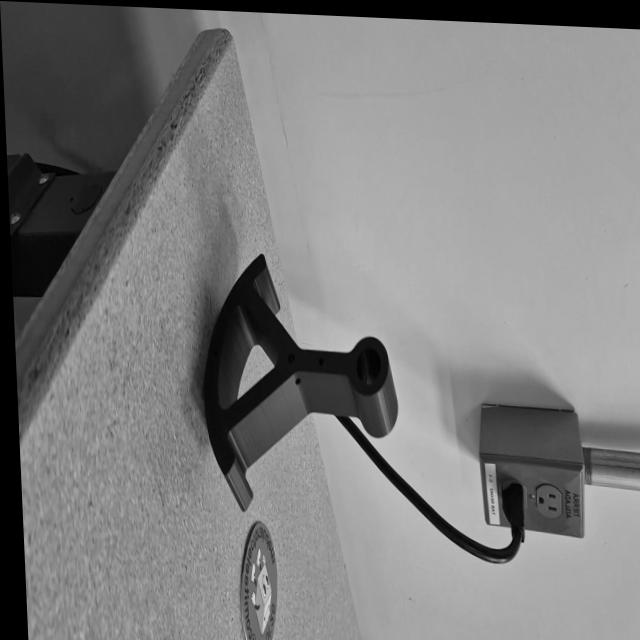haptic: (197, 247, 404, 520)
